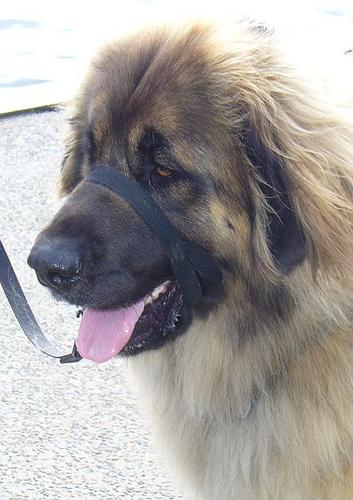dog-leonberger: (26, 28, 306, 361)
